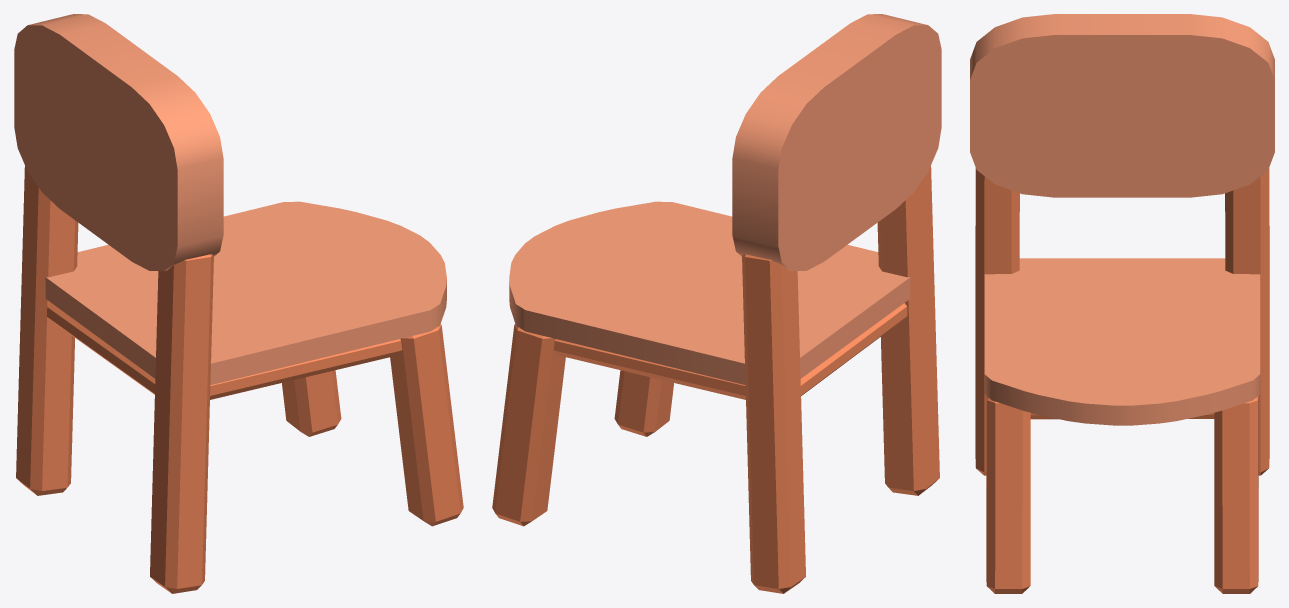
File: chair.fbx
3 renders of one model, left to right at view 1: azimuth 30°, elevation 25°; view 2: azimuth 150°, elevation 25°; view 3: azimuth 270°, elevation 25°, orthographic. The views are drawn at different scales.
Parts seen in each view (by area): view 1: chair; view 2: chair; view 3: chair.
Boxes of the visible parts, x1,y1,x2,y2 form: chair: (14, 14, 463, 593); chair: (492, 14, 941, 593); chair: (970, 14, 1274, 593).
Bounding box in the file's own units: 65.65 × 90.03 × 55.34.
